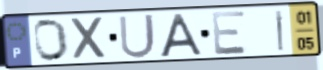A: (158, 12, 205, 59)
E: (210, 9, 250, 57)
I: (273, 8, 286, 53)
O: (32, 17, 71, 63)
U: (117, 12, 158, 61)
X: (69, 15, 110, 63)
